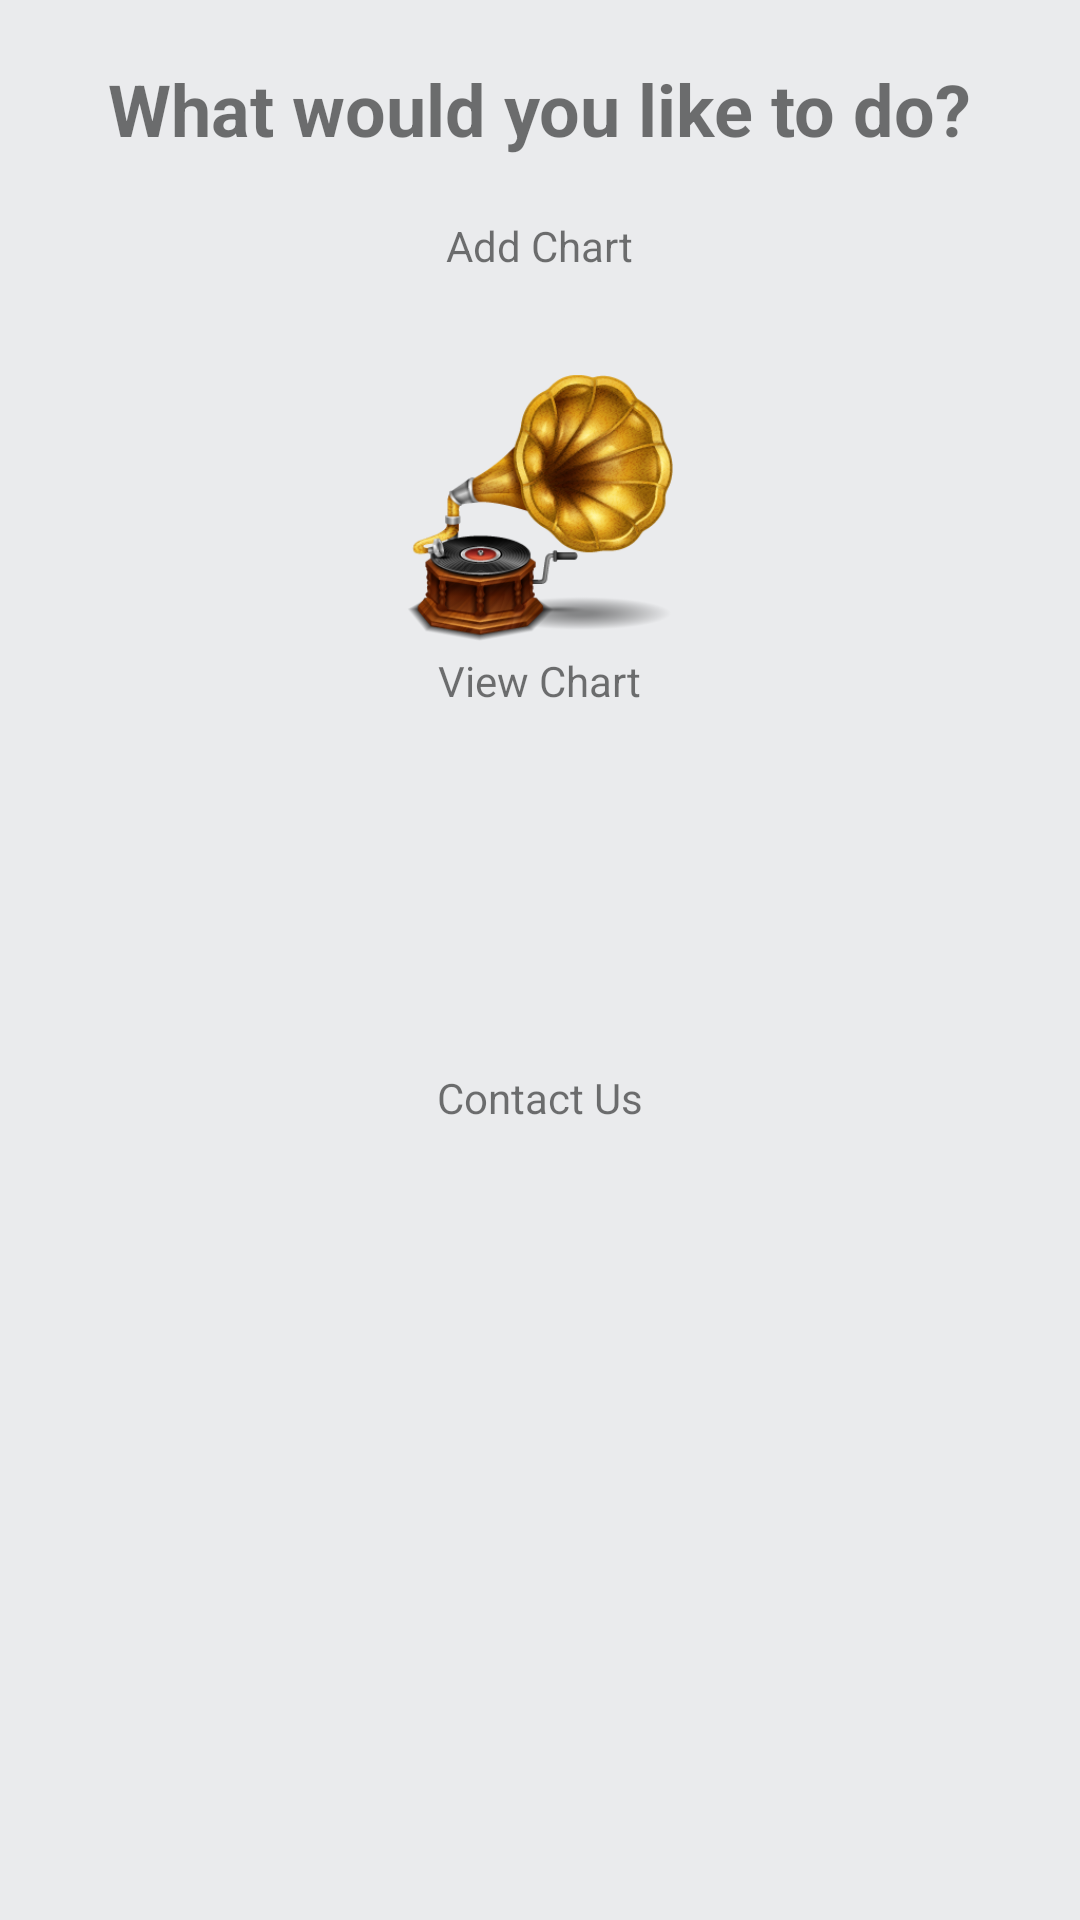

Named icons in this screenshot (1080*1920) and their bounding boxes, (left=x1, top=y1, right=x2, bottom=y2):
vintage: (left=409, top=375, right=673, bottom=640)
